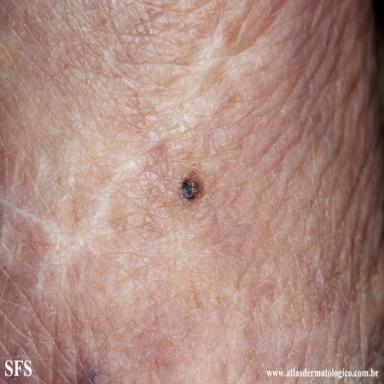Melanoma: (181, 175, 203, 200)
